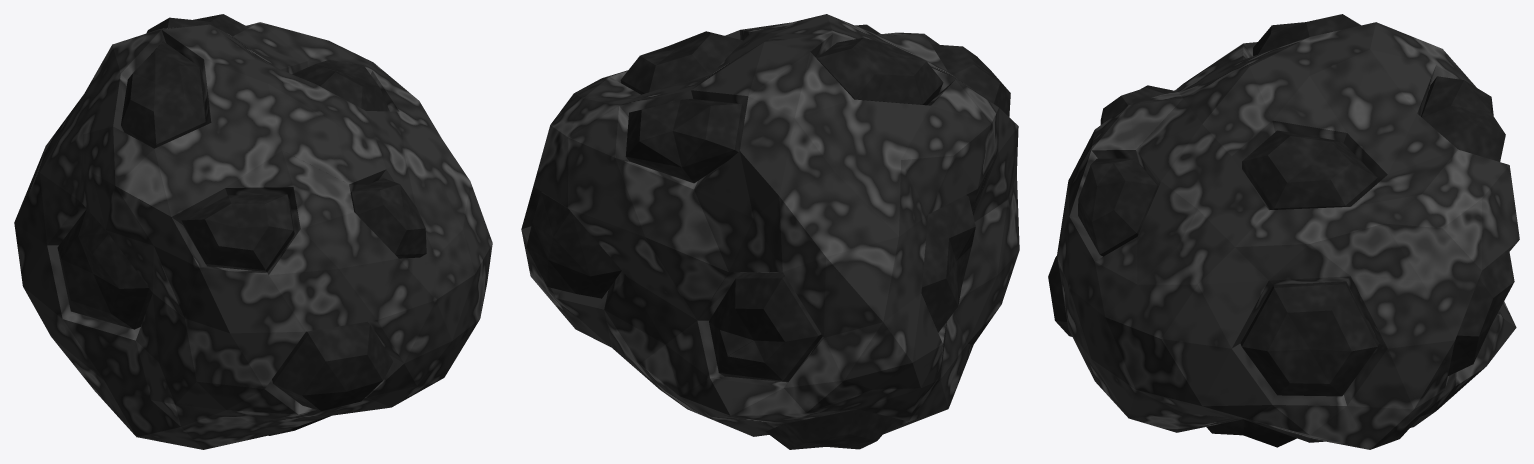
Rendered from Coal_Ore.fbx.
3 views of the same model, side by side, from view 1: azimuth 30°, elevation 25°; view 2: azimuth 150°, elevation 25°; view 3: azimuth 270°, elevation 25° (orthographic). The views are drawn at different scales.
Visible parts, largest first — view 1: SM_Coal_Ore; view 2: SM_Coal_Ore; view 3: SM_Coal_Ore.
Part boxes in pixels (x1,y1,x2,y2): SM_Coal_Ore: (14,14,492,449); SM_Coal_Ore: (521,14,1019,449); SM_Coal_Ore: (1048,14,1519,449).
Bounding box in the file's own units: 44.41 × 43.41 × 46.68.
Materials: 2 (2 with a texture image).
